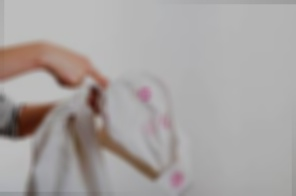lipstick: (136, 85, 153, 104), (169, 169, 183, 190), (157, 114, 173, 129)
